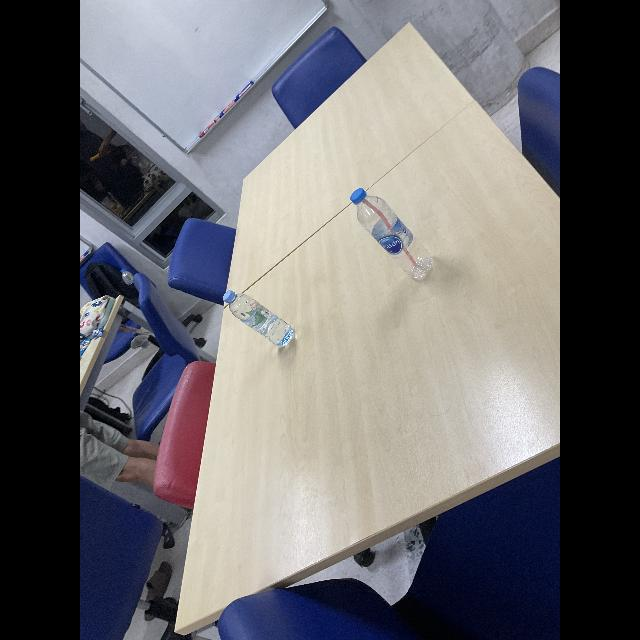plastic_bottle: (349, 185, 433, 278), (222, 289, 296, 349)
plastic_bottle_cap: (349, 188, 367, 205), (222, 290, 235, 304)
straw: (362, 198, 418, 266)
